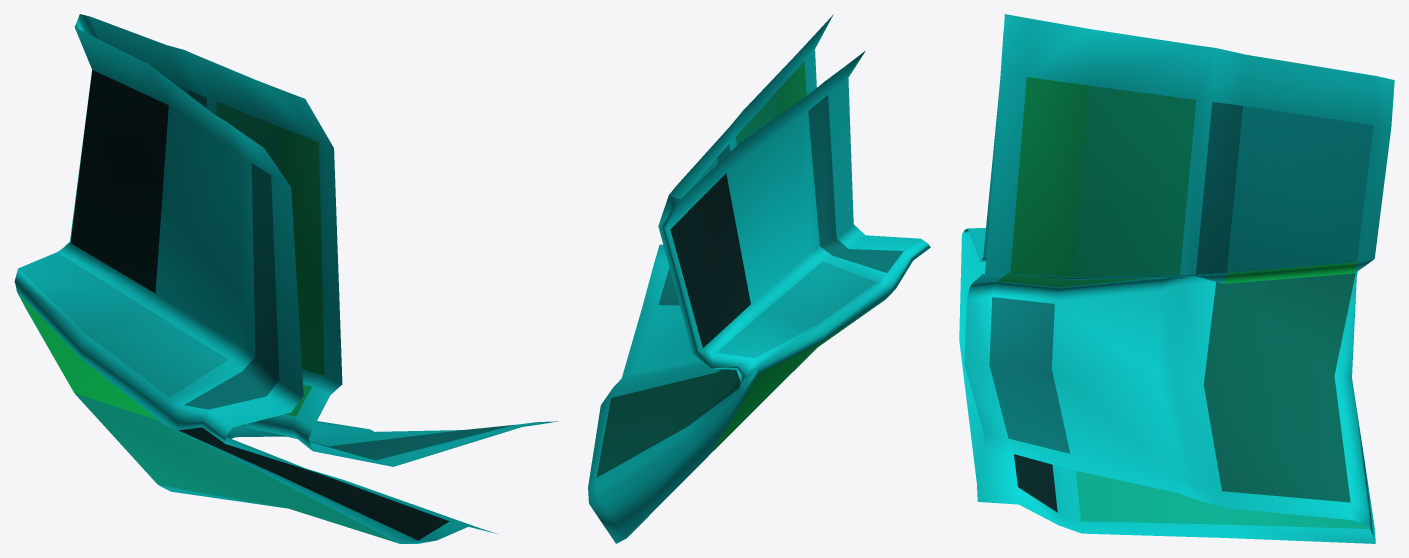
Rendered from OldNewspaper002.glb.
3 views of the same model, side by side, from view 1: azimuth 30°, elevation 25°; view 2: azimuth 150°, elevation 25°; view 3: azimuth 270°, elevation 25° (orthographic). The views are drawn at different scales.
Parts seen in each view (by area): view 1: OldNewspaper002; view 2: OldNewspaper002; view 3: OldNewspaper002.
Boxes of the visible parts, left/top/right/bottom form: OldNewspaper002: left=14, top=14, right=558, bottom=543; OldNewspaper002: left=588, top=14, right=930, bottom=543; OldNewspaper002: left=959, top=14, right=1394, bottom=543.
Size of the model in its own units: 0.0421 by 0.0656 by 0.0521.
